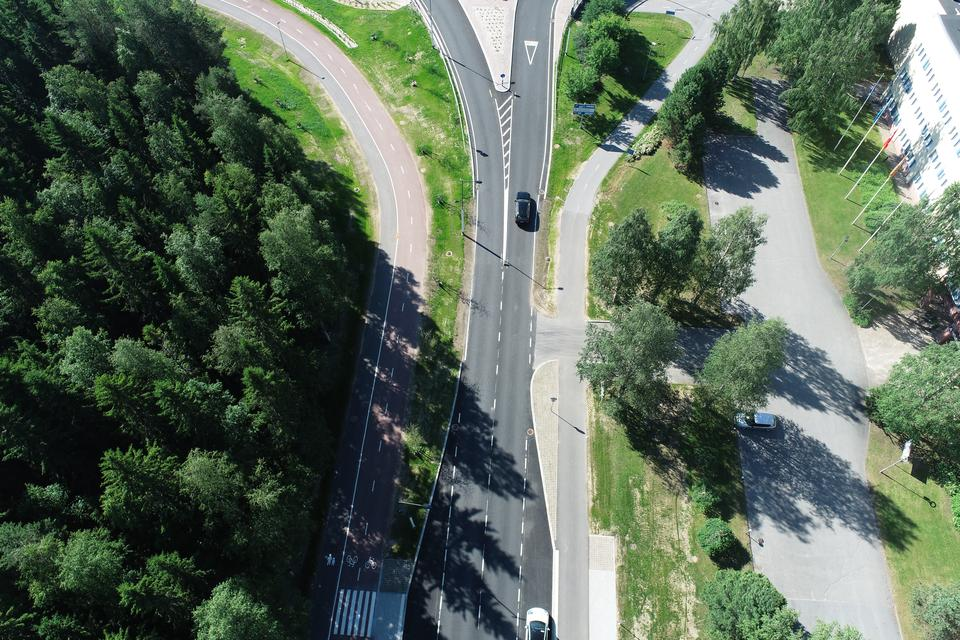intersection: (441, 290, 614, 385)
